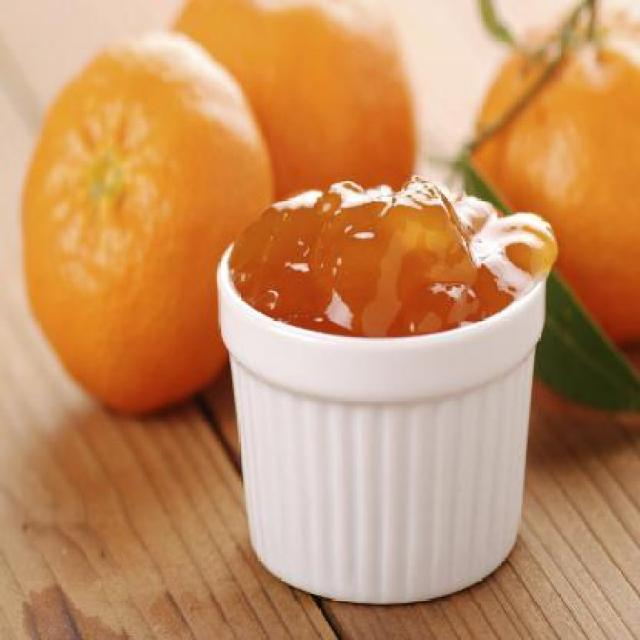Jeruk Sudah Matang: (23, 34, 272, 414), (163, 0, 414, 298), (472, 12, 638, 368)
